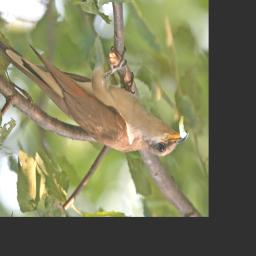Cuckoo: (0, 11, 193, 158)
